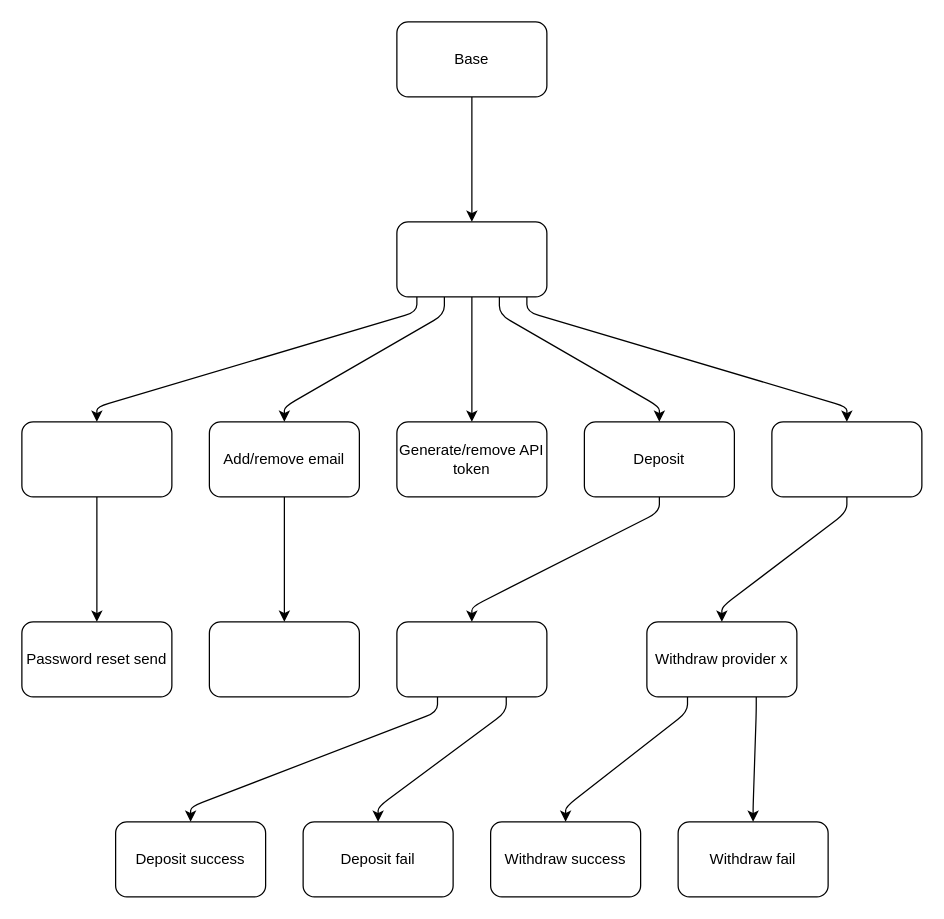
Image size: 944x919. Some labels were removed from this diagram. Each missing label, with the centre of its shape:
"Account" goes at pixel 471 259.
"Deposit provider x" goes at pixel 471 659.
"Password reset" goes at pixel 96 459.
"Verify" goes at pixel 283 659.
"Withdraw" goes at pixel 846 459.
